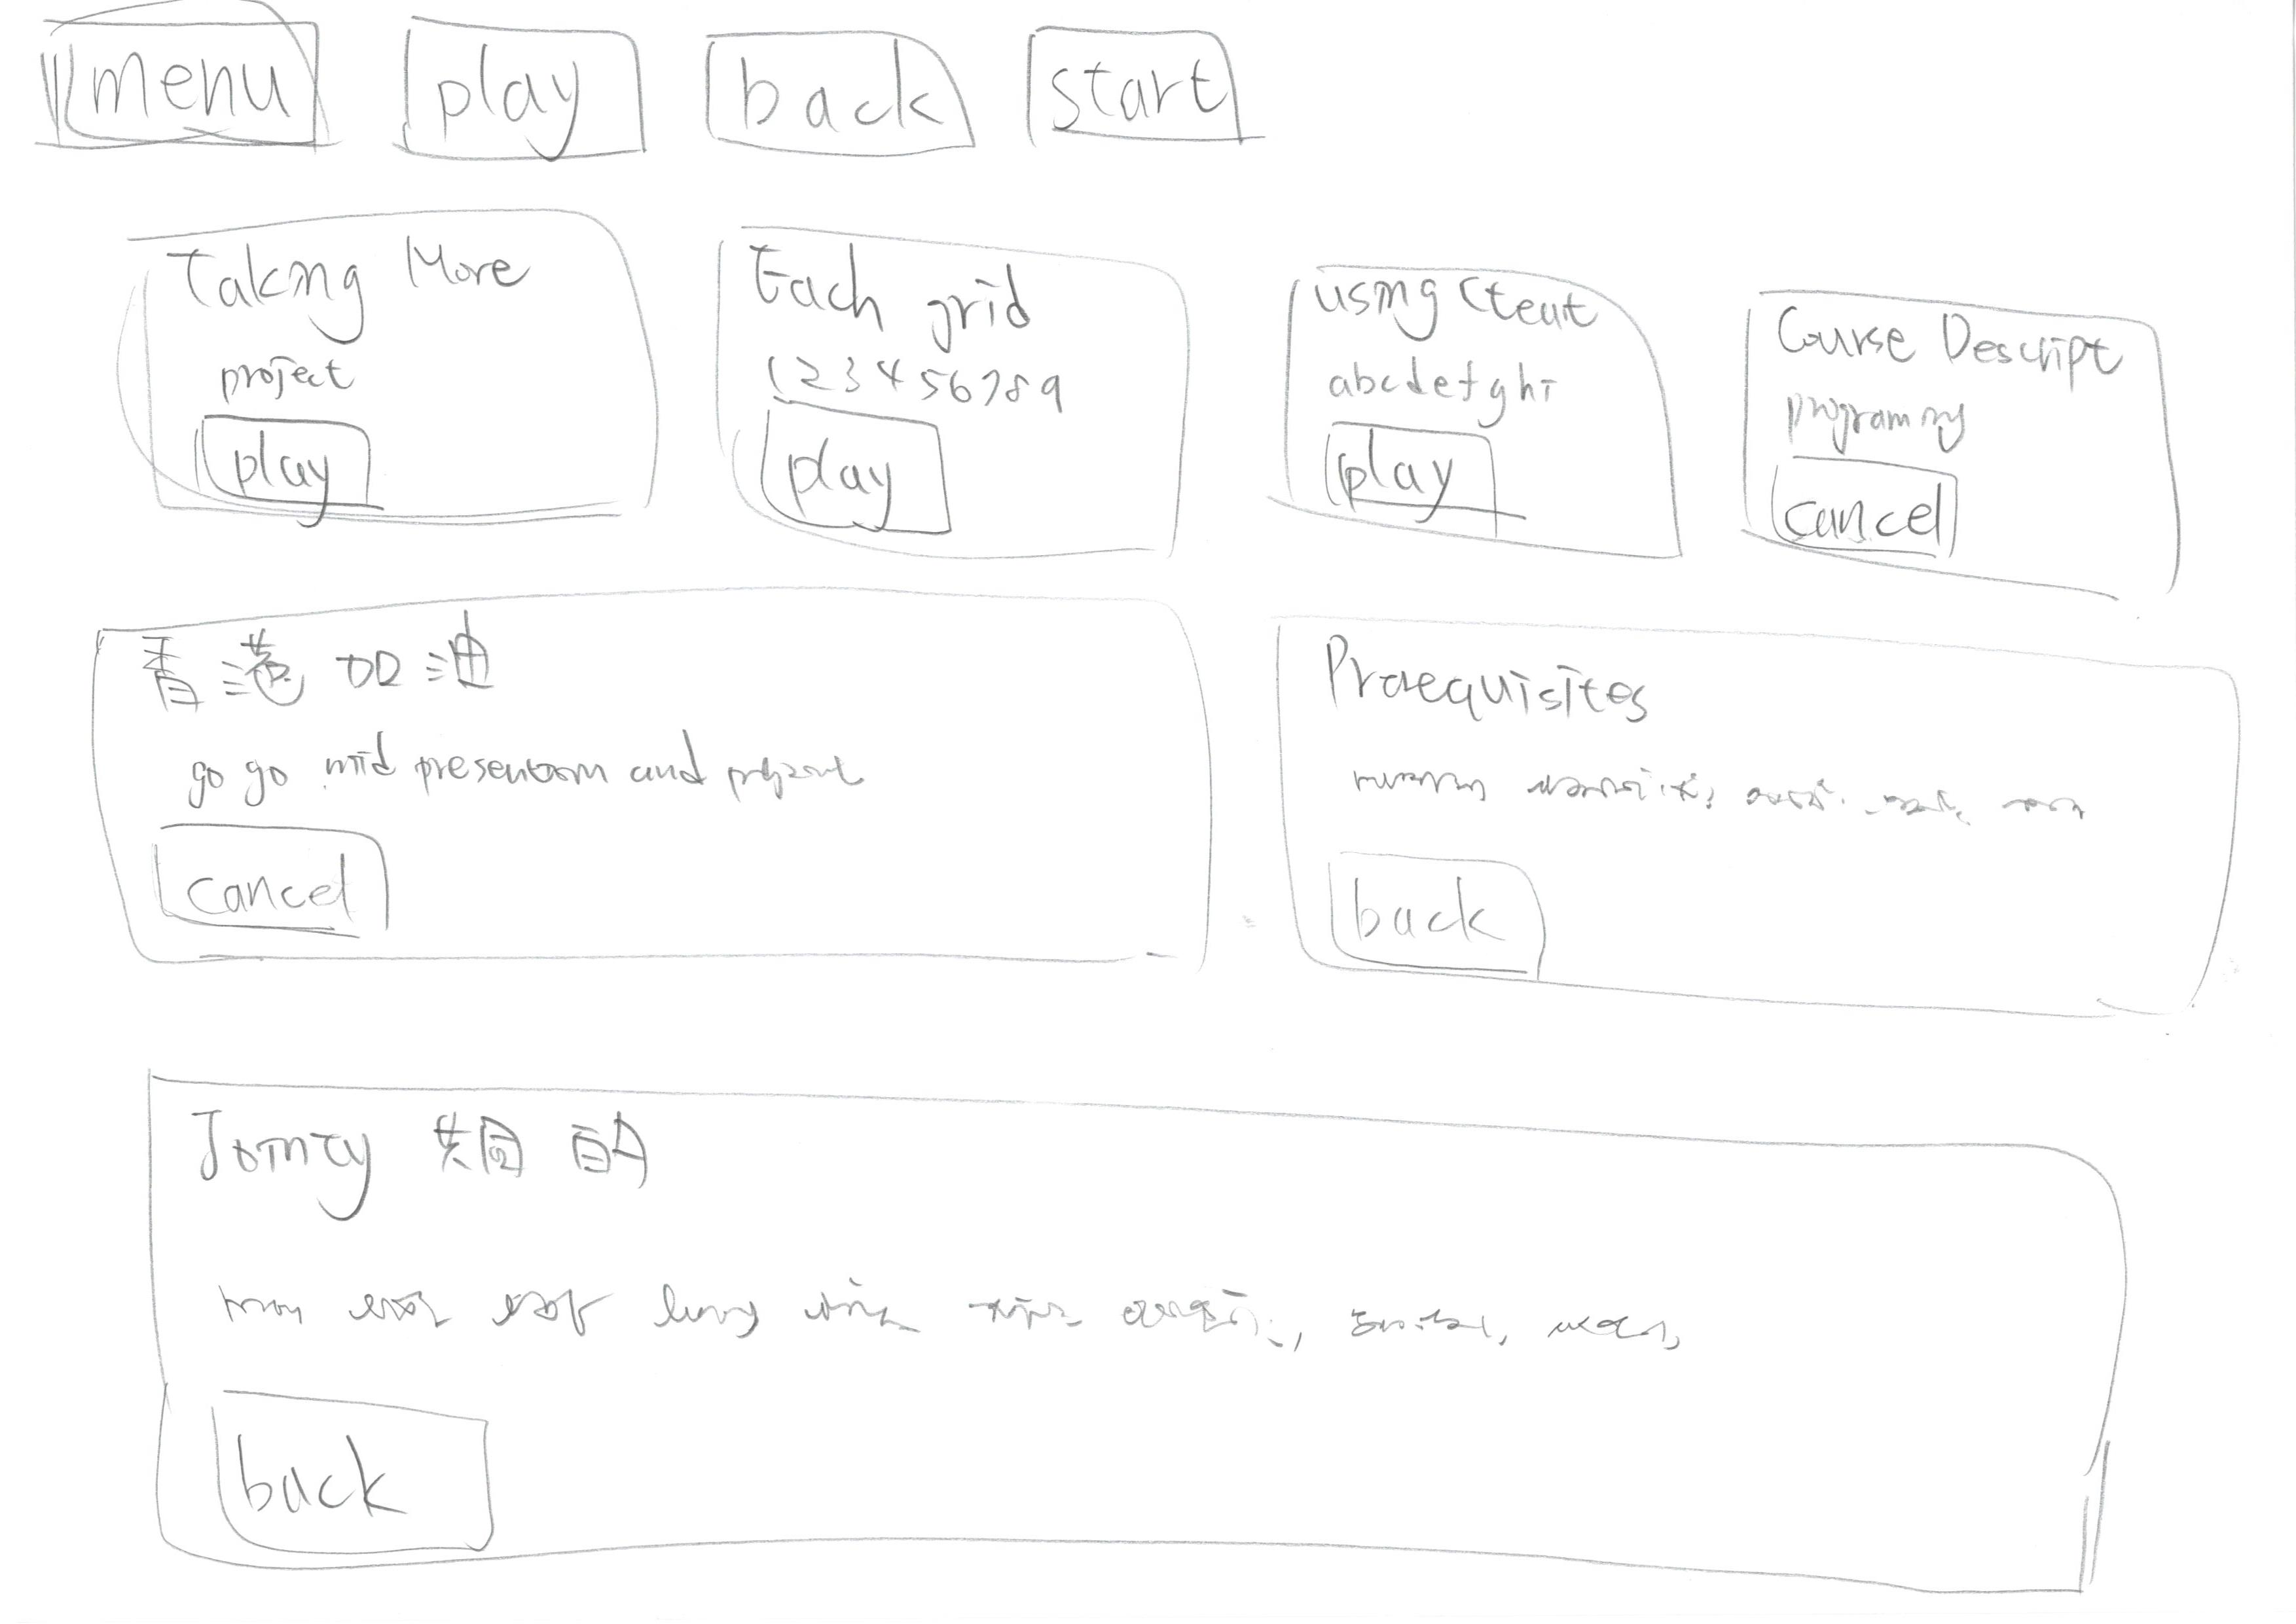back: (185, 1376, 547, 1578), (672, 5, 990, 188), (1313, 837, 1588, 993)
cancel: (135, 803, 415, 951)
double: (51, 576, 1259, 1025), (1257, 603, 2296, 1058)
menu: (4, 0, 359, 169)
play: (381, 2, 663, 183), (735, 401, 962, 569), (1303, 410, 1507, 540), (176, 415, 389, 531)
quadruple: (91, 192, 665, 575), (670, 183, 1215, 585), (1718, 214, 2240, 631), (1253, 190, 1707, 603)
row: (19, 1056, 2296, 1620), (19, 188, 2296, 631), (19, 582, 2296, 1025), (19, 0, 2296, 214)
single: (95, 1058, 2208, 1617)
small-title: (163, 1090, 670, 1214), (132, 613, 506, 724), (1317, 626, 1677, 740), (1765, 295, 2127, 394), (749, 239, 1057, 353), (162, 237, 536, 302), (1311, 265, 1580, 334)
start: (1000, 11, 1297, 172)
text: (199, 1246, 1744, 1357), (1345, 743, 2115, 826), (172, 740, 898, 805), (751, 325, 1083, 411), (1313, 350, 1580, 420), (1781, 374, 1976, 459), (211, 329, 378, 420)
